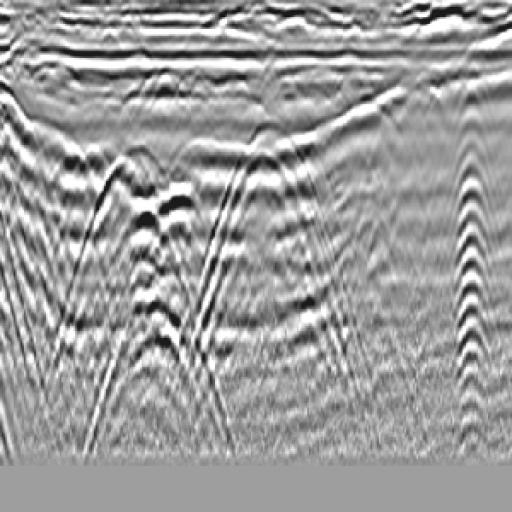metalic: (200, 107, 349, 366)
